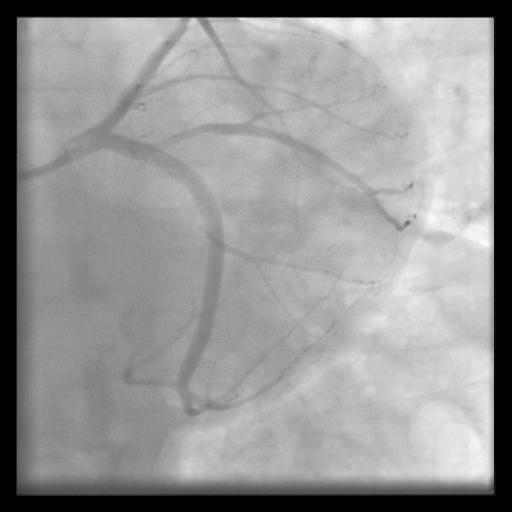Stenosis: (165, 122, 208, 142)
